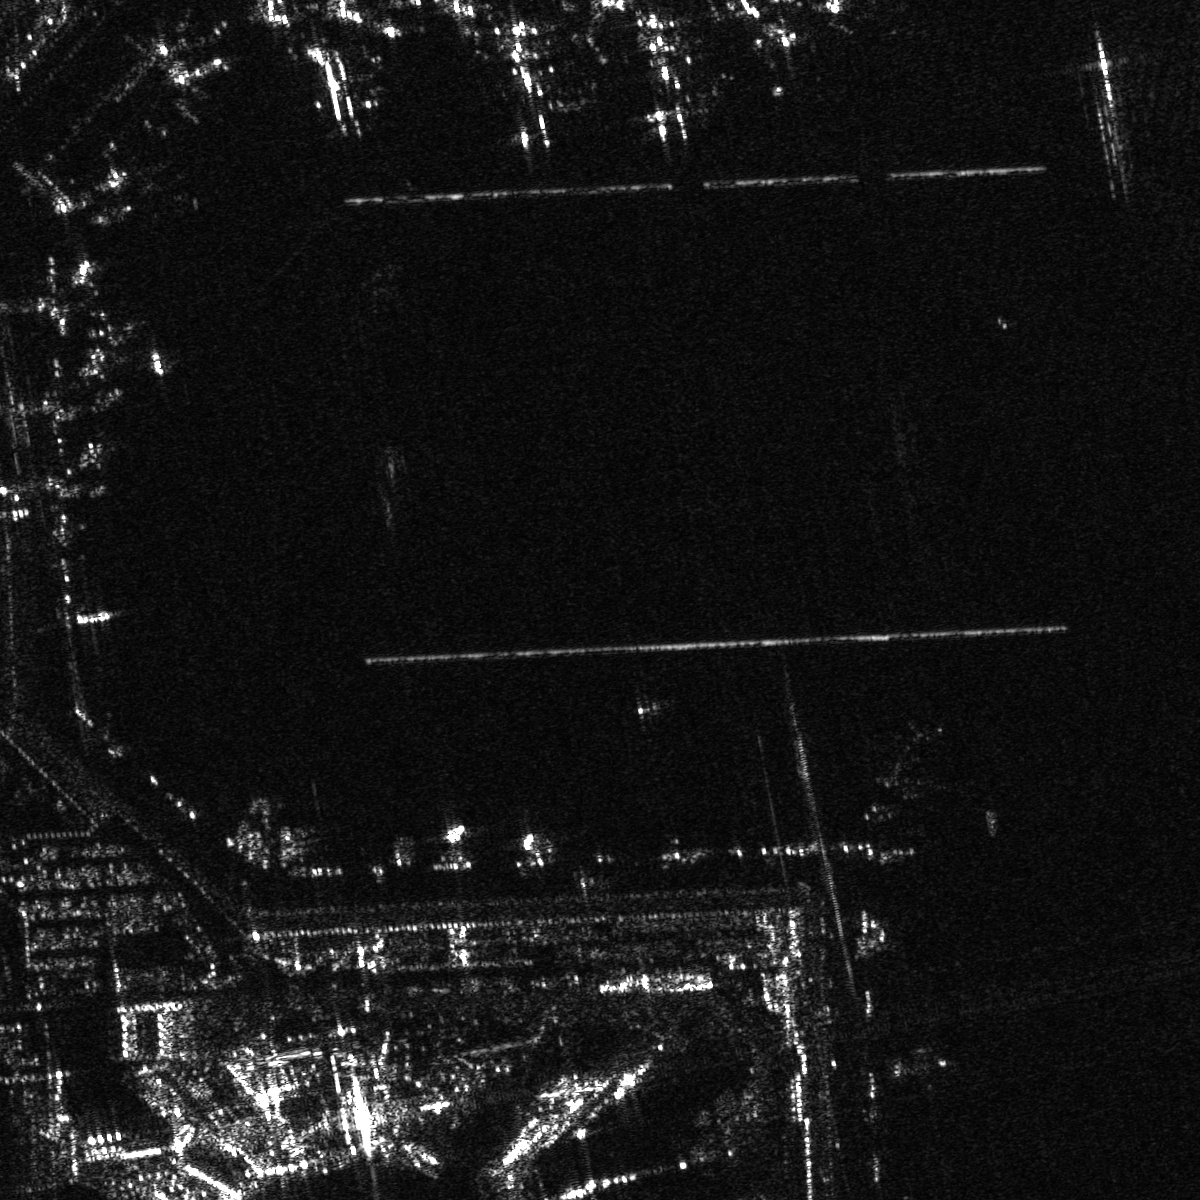A220: (289, 38, 385, 141), (879, 1027, 957, 1092)
A320/321: (29, 166, 142, 260)
Boeing737: (143, 38, 234, 110)
Boeing787: (458, 15, 566, 148)
other: (596, 4, 713, 137)
